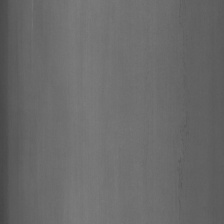silk_spot: (171, 65, 196, 205)
